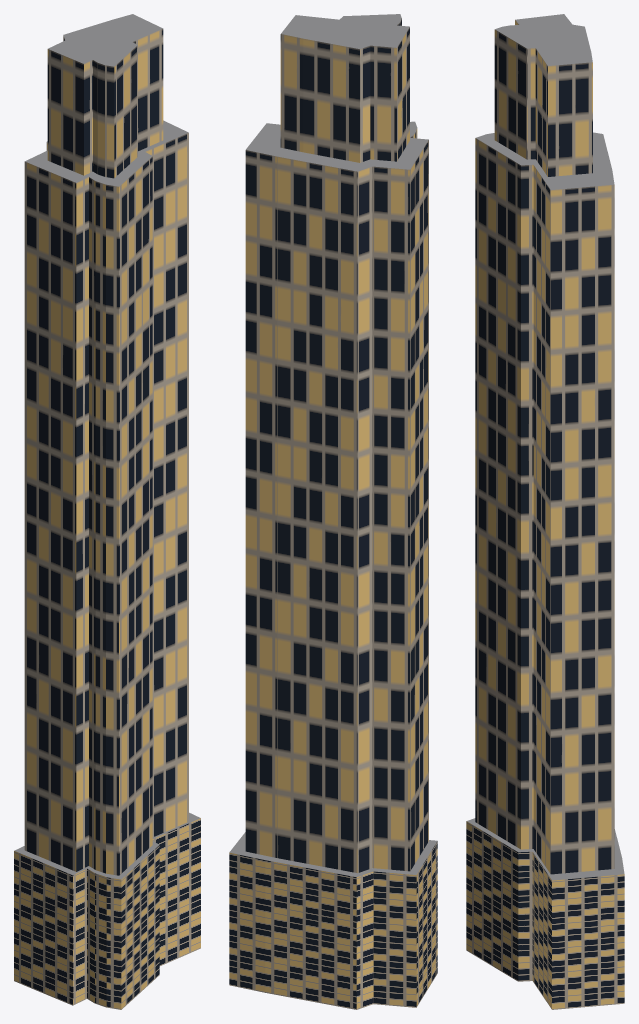
File: novotel-london-canary-wharf.glb
The picture shows the model from 3 angles, left to right: view 1: azimuth 30°, elevation 25°; view 2: azimuth 150°, elevation 25°; view 3: azimuth 270°, elevation 25°; orthographic projection. The views are drawn at different scales.
Visible parts, largest first — view 1: novotel-london-canary-wharf; view 2: novotel-london-canary-wharf; view 3: novotel-london-canary-wharf.
Boxes of the visible parts, x1=… form: novotel-london-canary-wharf: x1=14, y1=14, x2=200, y2=1009; novotel-london-canary-wharf: x1=229, y1=14, x2=437, y2=1009; novotel-london-canary-wharf: x1=466, y1=14, x2=624, y2=1009.
Size of the model in its own units: 0.336 by 1.72 by 0.267.
2 materials, 1 textured.
